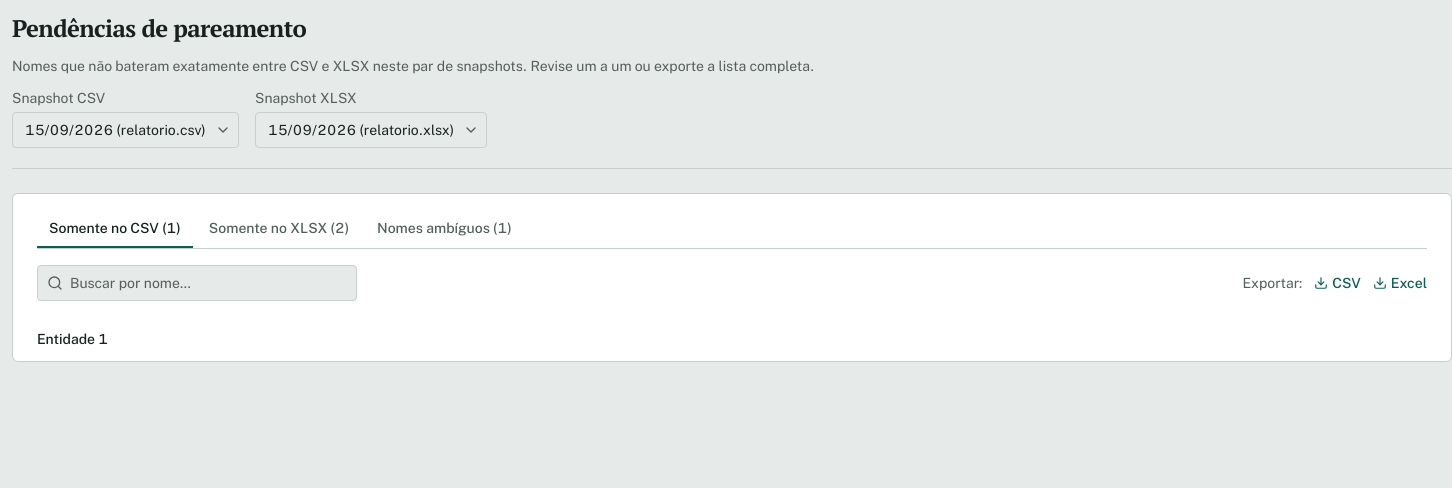
Test case: PendenciasPage › filtra a lista pela busca por nome
Expected: the tab "Somente no CSV (1)" is shown, [37,210,193,248]
Click the tab "Somente no XLSX (2)" at (279, 229), box [197,210,361,248]
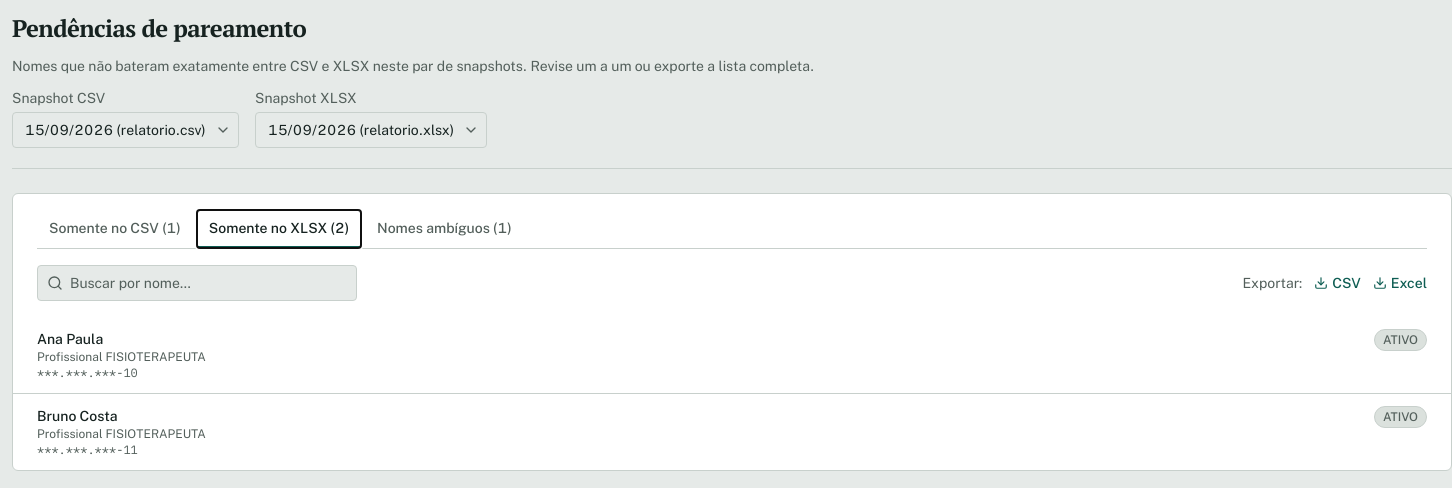
Expected: the text "Ana Paula" is shown, [37,331,103,347]
Expected: the text "Bruno Costa" is shown, [37,408,118,424]
Type "ana" into the field labelled "Buscar por nome" at (197, 283), box [37,265,357,301]
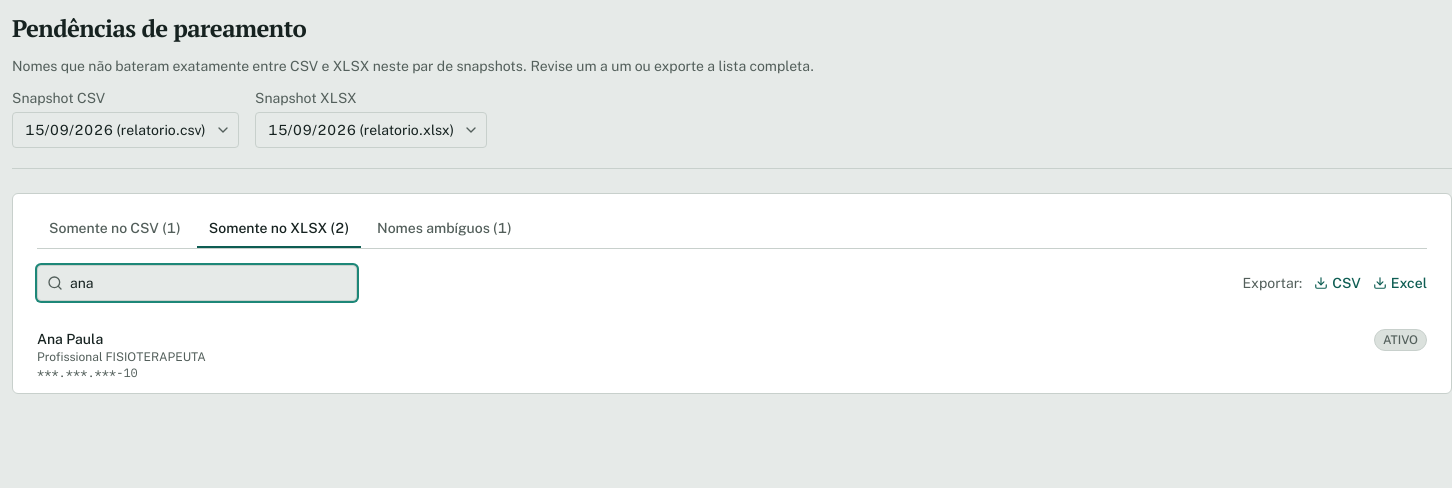
Expected: the text "Ana Paula" is shown, [37,331,103,347]
Expected: the text "Bruno Costa" is gone
